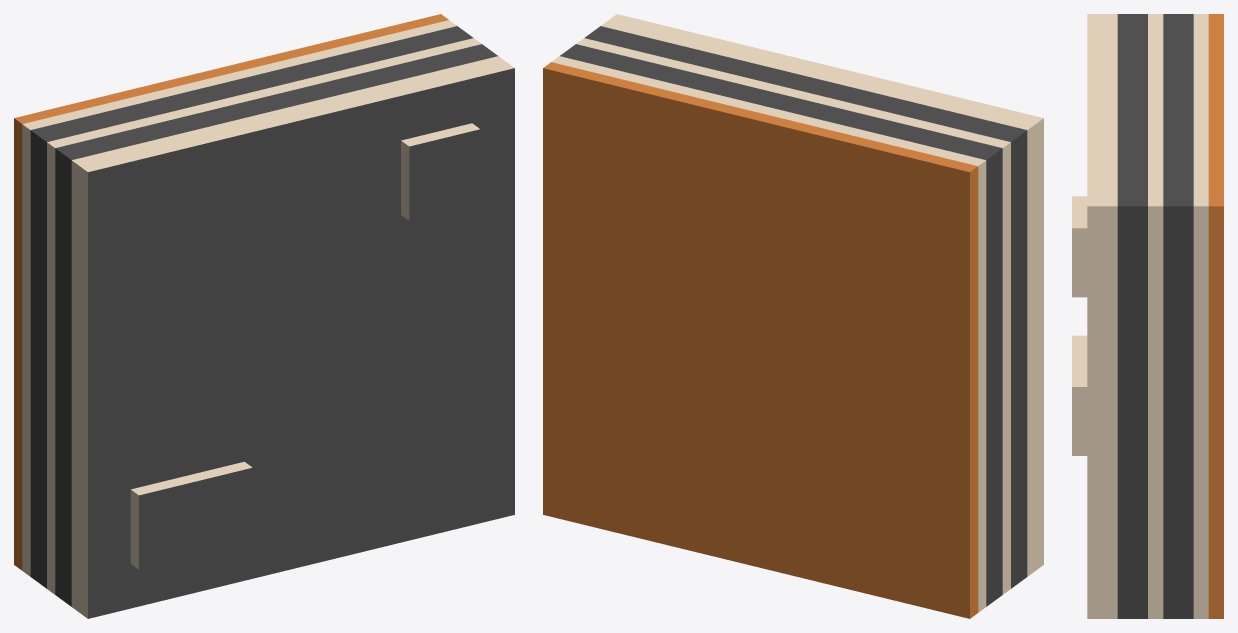
File: building_3.dae
3 views of the same model, side by side, from view 1: azimuth 30°, elevation 25°; view 2: azimuth 150°, elevation 25°; view 3: azimuth 270°, elevation 25° (orthographic). The views are drawn at different scales.
Visible parts, largest first — view 1: coords_ME_ID3_MA_material, coords_ME_ID11_MA_material_12, coords_ME_ID45_MA_material, coords_ME_ID39_MA_material, coords_ME_ID51_MA_material, coords_ME_ID19_MA_material_12, coords_ME_ID25_MA_material_10, coords_ME_ID33_MA_material_12, coords_ME_ID63_MA_material, coords_ME_ID57_MA_material_12, coords_ME_ID69_MA_material_12; view 2: coords_ME_ID25_MA_material_10, coords_ME_ID11_MA_material_12, coords_ME_ID45_MA_material, coords_ME_ID39_MA_material, coords_ME_ID19_MA_material_12, coords_ME_ID33_MA_material_12; view 3: coords_ME_ID45_MA_material, coords_ME_ID39_MA_material, coords_ME_ID11_MA_material_12, coords_ME_ID33_MA_material_12, coords_ME_ID25_MA_material_10, coords_ME_ID19_MA_material_12, coords_ME_ID57_MA_material_12, coords_ME_ID69_MA_material_12.
Boxes of the visible parts, left/top/right/bottom form: coords_ME_ID3_MA_material: left=88, top=68, right=514, bottom=618; coords_ME_ID11_MA_material_12: left=71, top=56, right=514, bottom=618; coords_ME_ID45_MA_material: left=55, top=44, right=497, bottom=606; coords_ME_ID39_MA_material: left=30, top=26, right=473, bottom=588; coords_ME_ID51_MA_material: left=139, top=468, right=252, bottom=569; coords_ME_ID19_MA_material_12: left=47, top=38, right=481, bottom=594; coords_ME_ID25_MA_material_10: left=14, top=14, right=448, bottom=570; coords_ME_ID33_MA_material_12: left=22, top=20, right=456, bottom=576; coords_ME_ID63_MA_material: left=409, top=129, right=480, bottom=220; coords_ME_ID57_MA_material_12: left=130, top=461, right=252, bottom=569; coords_ME_ID69_MA_material_12: left=401, top=123, right=479, bottom=220; coords_ME_ID25_MA_material_10: left=543, top=62, right=978, bottom=618; coords_ME_ID11_MA_material_12: left=601, top=14, right=1043, bottom=576; coords_ME_ID45_MA_material: left=584, top=26, right=1027, bottom=588; coords_ME_ID39_MA_material: left=560, top=44, right=1002, bottom=606; coords_ME_ID19_MA_material_12: left=576, top=38, right=1010, bottom=594; coords_ME_ID33_MA_material_12: left=552, top=56, right=986, bottom=612; coords_ME_ID45_MA_material: left=1117, top=14, right=1147, bottom=618; coords_ME_ID39_MA_material: left=1163, top=14, right=1193, bottom=618; coords_ME_ID11_MA_material_12: left=1087, top=14, right=1117, bottom=618; coords_ME_ID33_MA_material_12: left=1193, top=14, right=1208, bottom=618; coords_ME_ID25_MA_material_10: left=1208, top=14, right=1223, bottom=618; coords_ME_ID19_MA_material_12: left=1148, top=14, right=1163, bottom=618; coords_ME_ID57_MA_material_12: left=1072, top=335, right=1087, bottom=455; coords_ME_ID69_MA_material_12: left=1072, top=196, right=1087, bottom=297.
Size of the model in its own units: 165 by 165 by 55.12.
